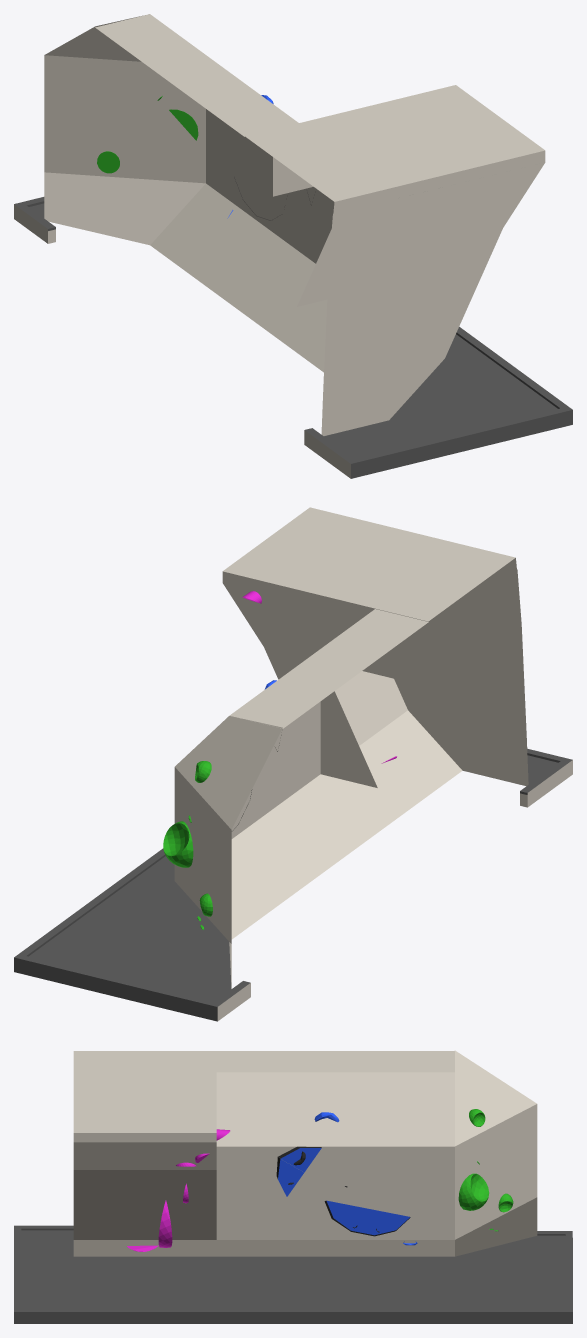
File: wall.glb
3 views of the same model, one above another, from view 1: azimuth 30°, elevation 25°; view 2: azimuth 150°, elevation 25°; view 3: azimuth 270°, elevation 25° (orthographic). The views are drawn at different scales.
Visible parts, largest first — view 1: Plane; view 2: Plane, Sphere.002; view 3: Plane, Plane.004, Sphere.002, Plane.001, Plane.002, Plane.003, Sphere.001.
Boxes of the visible parts, bbox=[...] form: Plane: bbox=[14, 14, 572, 478]; Plane: bbox=[14, 507, 572, 1021]; Sphere.002: bbox=[163, 821, 193, 867]; Plane: bbox=[14, 1050, 572, 1323]; Plane.004: bbox=[324, 1200, 380, 1236]; Sphere.002: bbox=[458, 1173, 489, 1210]; Plane.001: bbox=[276, 1157, 303, 1196]; Plane.002: bbox=[278, 1146, 321, 1172]; Plane.003: bbox=[374, 1211, 410, 1236]; Sphere.001: bbox=[158, 1200, 172, 1247].
Bounding box in the file's own units: 4.39 × 4.43 × 11.48.
